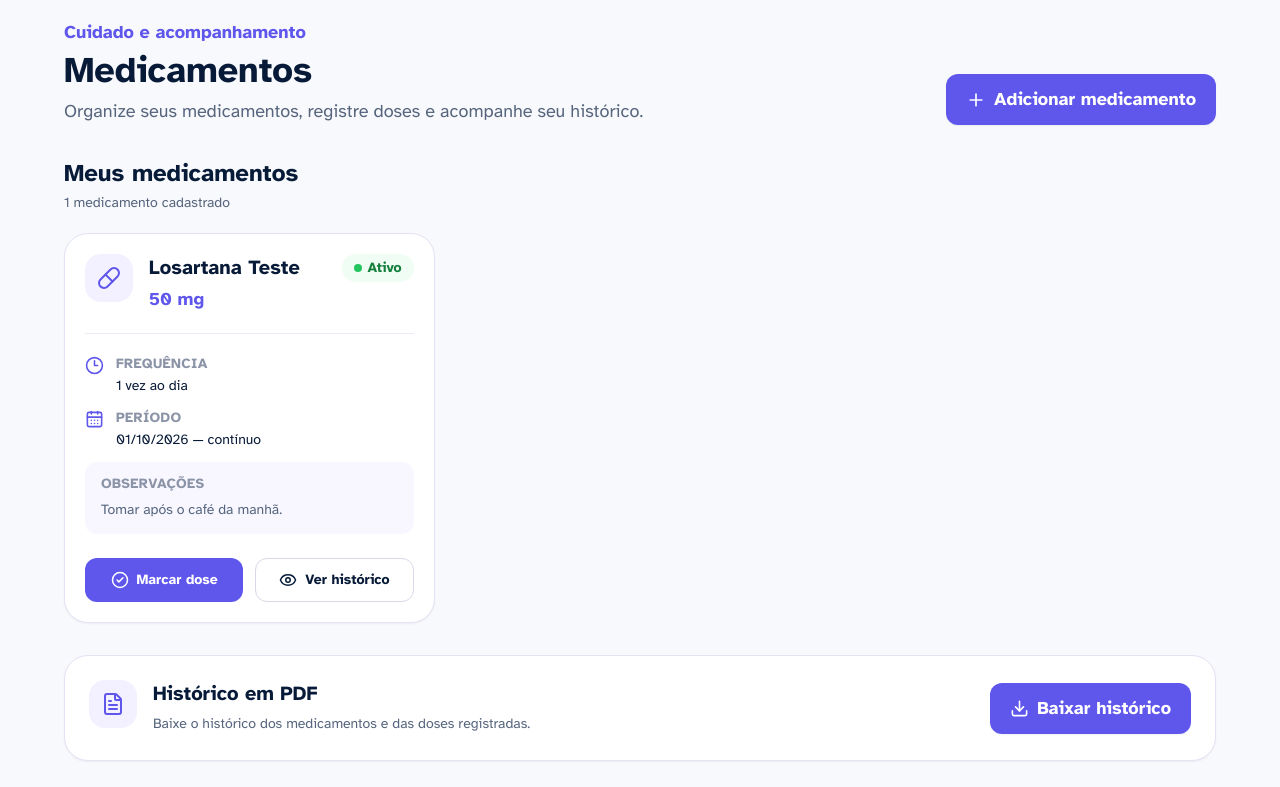
Remedios: acessibilidade do histórico › histórico com doses não possui violações
Click the button "Ver histórico". click: (334, 580)
box: x1=255 y1=558 x2=414 y2=602
(page scrolled)
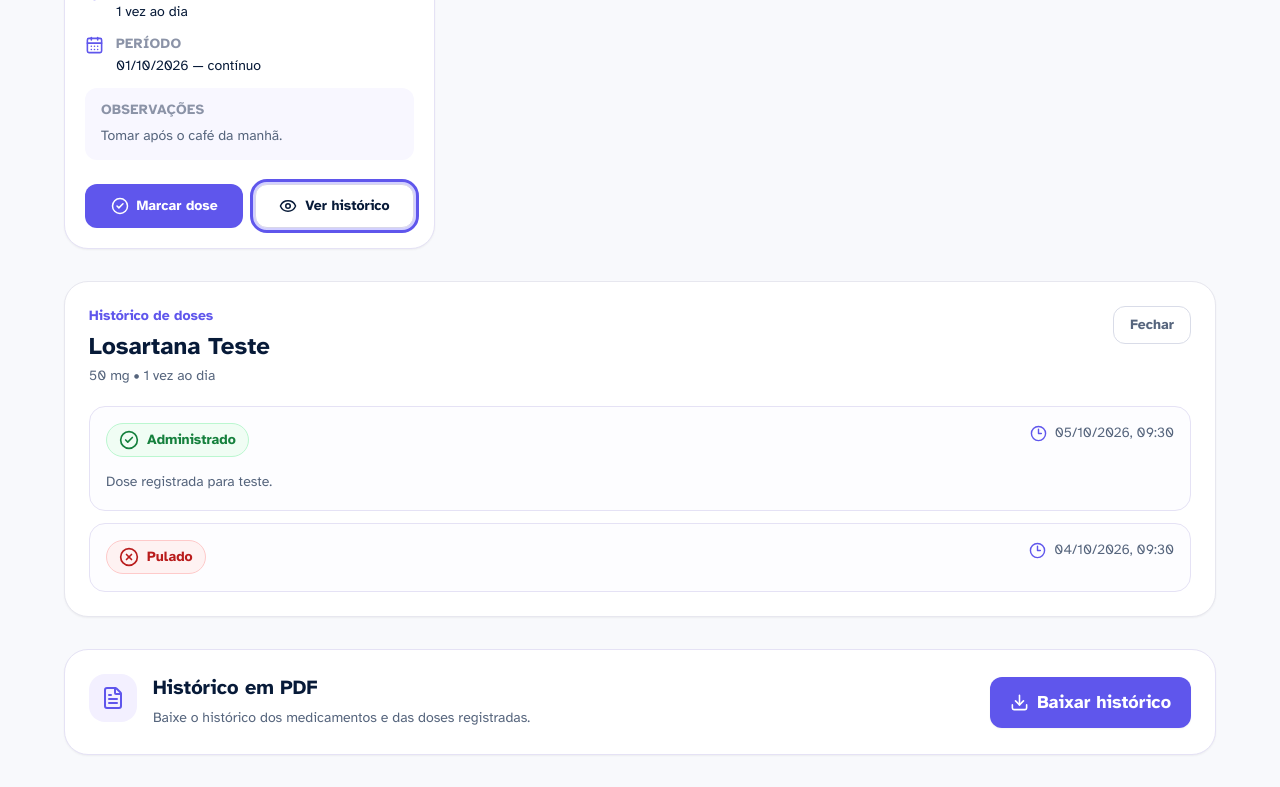
Now the text "Histórico de doses" is shown, box x1=89 y1=307 x2=213 y2=324
Now the text "Administrado" is shown, box x1=106 y1=423 x2=249 y2=457
Now the text "Pulado" is shown, box x1=106 y1=540 x2=206 y2=574
